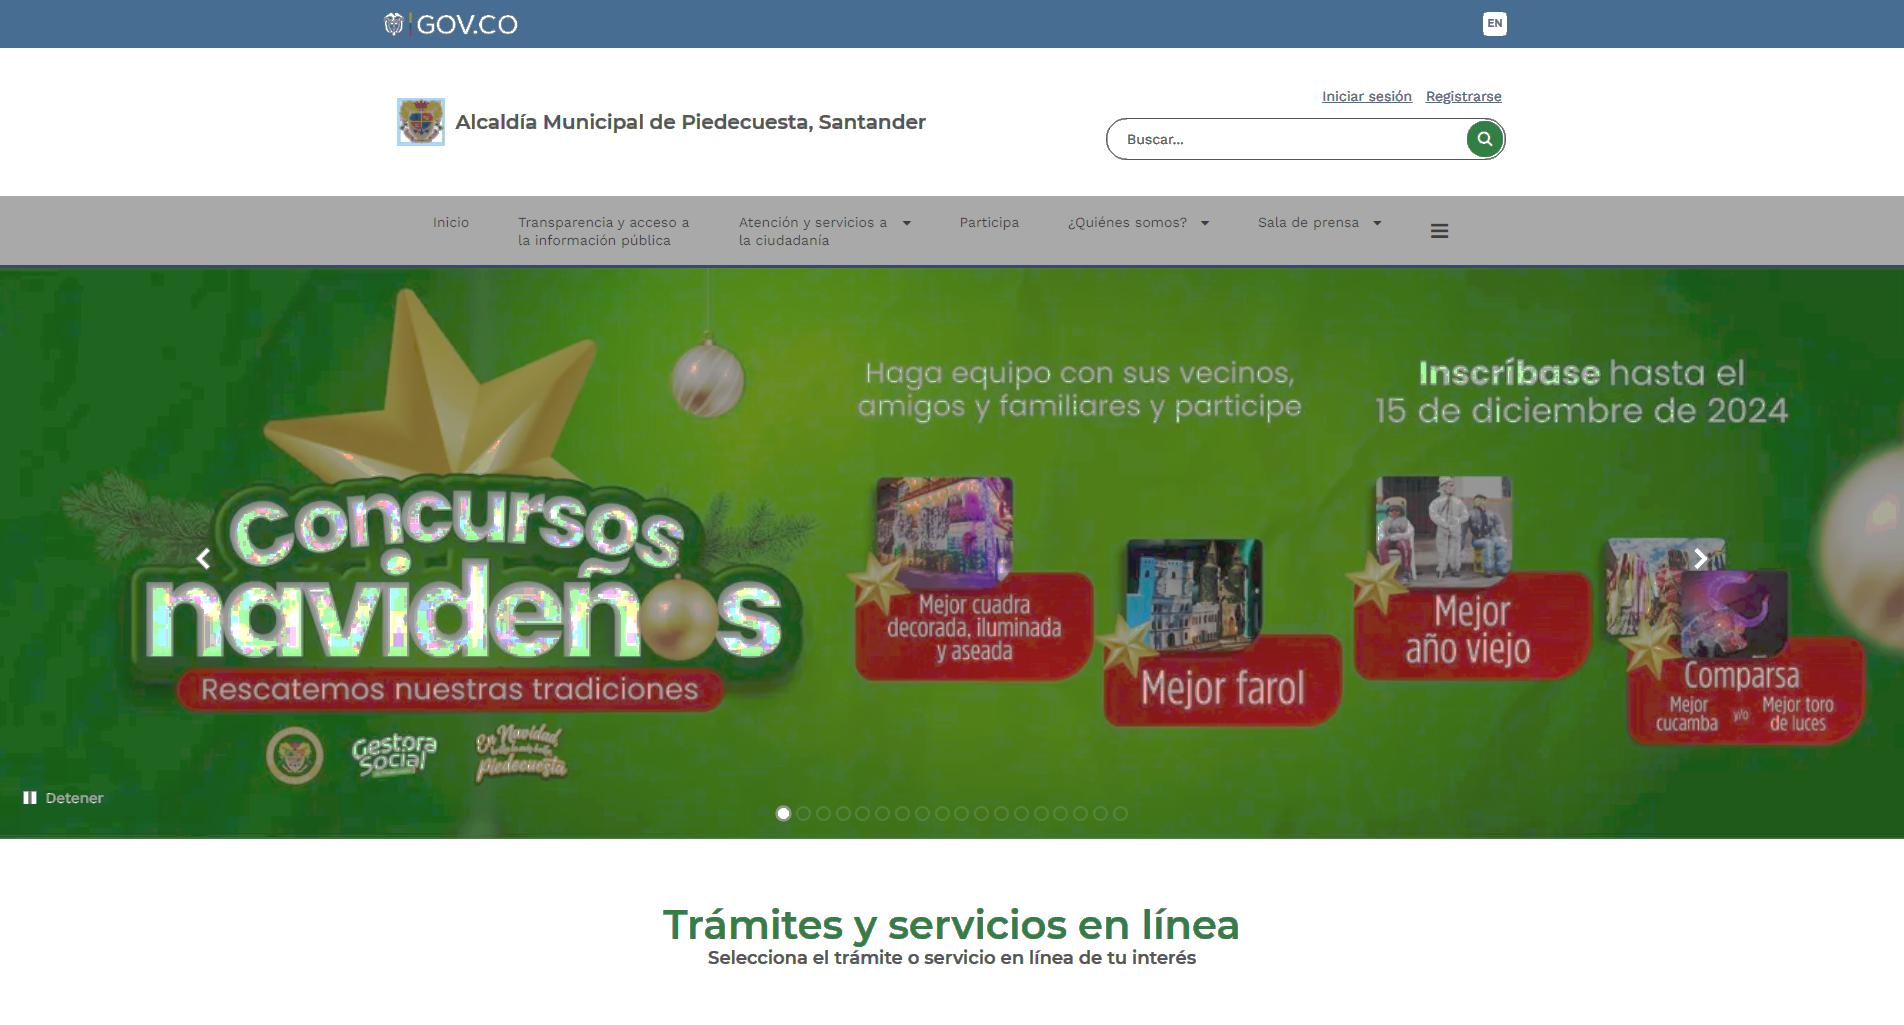banner principal: (2, 259, 1904, 841)
barra govco: (377, 0, 1513, 50)
btn atencion ciudadano: (732, 210, 919, 249)
btn buscador: (1106, 115, 1509, 164), (1465, 118, 1506, 159)
btn idiomas: (1481, 11, 1510, 40)
btn inicio: (429, 215, 473, 231)
btn inicio sesion: (1321, 86, 1415, 106)
btn participa: (954, 211, 1025, 234)
btn quienes somos: (1063, 212, 1210, 235)
btn registro: (1423, 87, 1505, 107)
btn sala prensa: (1256, 210, 1385, 236)
btn tramites: (658, 900, 1245, 949)
btn transpariencia: (512, 210, 693, 252)
logogovco: (381, 8, 519, 41)
menu principal: (428, 191, 1454, 255)
